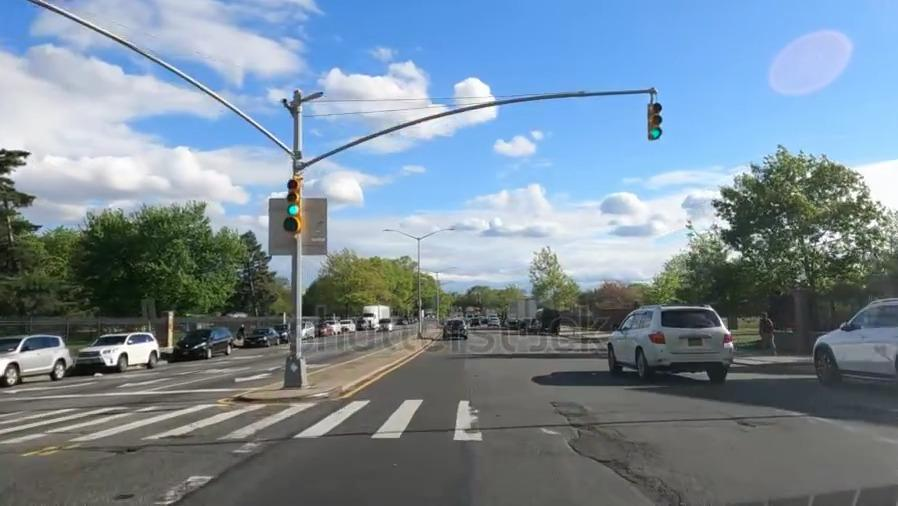car: (609, 303, 736, 383), (810, 308, 898, 384), (1, 323, 73, 391), (84, 323, 163, 377), (182, 319, 237, 363), (245, 326, 279, 347), (441, 316, 467, 341), (298, 319, 318, 339), (278, 324, 292, 339), (379, 318, 394, 331)
pedestrian: (0, 395, 540, 445)
person: (757, 310, 776, 353), (236, 322, 246, 339)
pothole: (731, 413, 777, 434)
road damage: (551, 399, 683, 506)
traffic light: (283, 171, 309, 242), (644, 96, 663, 138)
